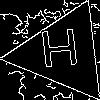H: (38, 28, 82, 77)
